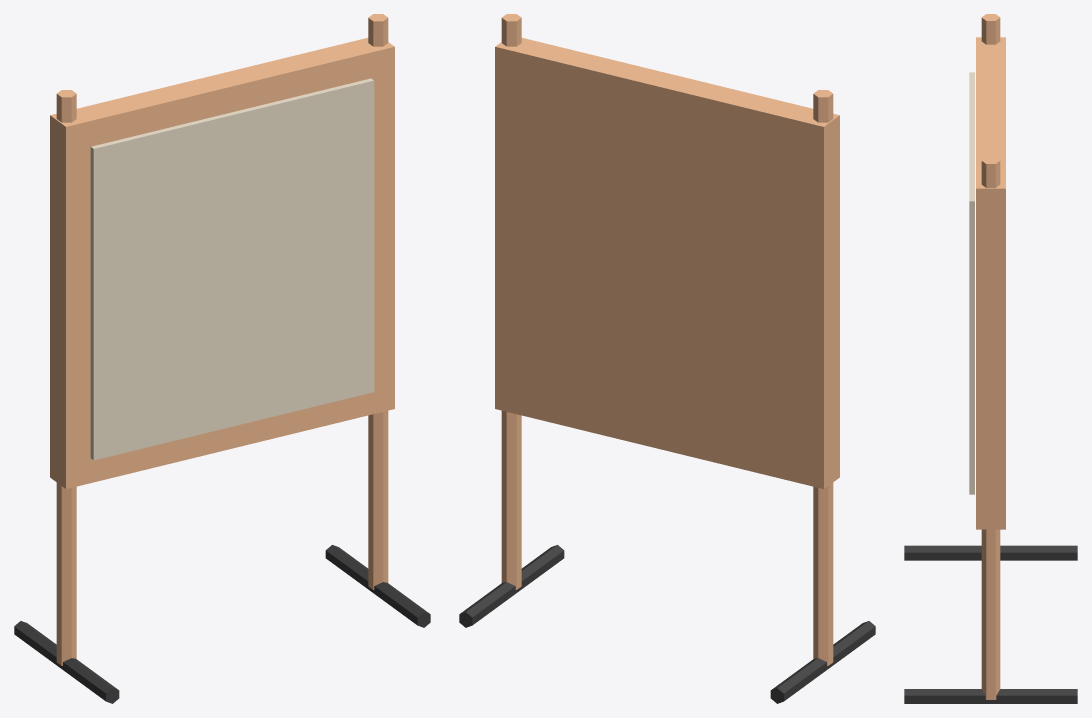
The picture shows the model from 3 angles, left to right: view 1: azimuth 30°, elevation 25°; view 2: azimuth 150°, elevation 25°; view 3: azimuth 270°, elevation 25°; orthographic projection. The views are drawn at different scales.
Parts seen in each view (by area): view 1: Art surface, Frame, Support, Support.001, Foot.001, Foot; view 2: Frame, Support, Support.001, Foot.001, Foot; view 3: Frame, Support.001, Art surface, Foot, Foot.001, Support.
Part boxes in pixels (<box>): Art surface: <box>90,78,374,460</box>; Frame: <box>50,38,394,488</box>; Support: <box>56,90,76,665</box>; Support.001: <box>368,14,388,589</box>; Foot.001: <box>325,545,430,627</box>; Foot: <box>14,621,119,703</box>; Frame: <box>495,38,839,488</box>; Support: <box>813,90,833,665</box>; Support.001: <box>501,14,521,589</box>; Foot.001: <box>459,545,564,627</box>; Foot: <box>770,621,875,703</box>; Frame: <box>976,37,1005,529</box>; Support.001: <box>981,157,1000,699</box>; Art surface: <box>969,72,974,494</box>; Foot: <box>904,545,1077,560</box>; Foot.001: <box>904,689,1077,703</box>; Support: <box>981,14,1000,44</box>.
Size of the model in its own units: 95 by 159 by 46.
